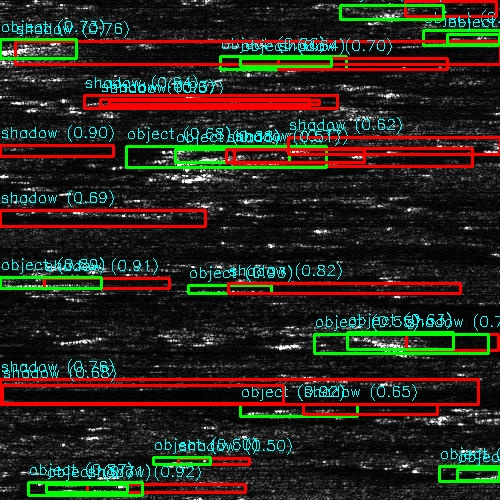rock: (132, 142, 351, 169), (379, 329, 462, 354), (212, 61, 347, 74), (417, 411, 500, 422), (434, 34, 500, 47), (346, 5, 429, 14), (0, 49, 51, 58), (42, 487, 115, 492), (455, 248, 500, 255), (68, 280, 89, 289), (470, 474, 500, 479), (405, 348, 436, 351)
shadow: (242, 142, 500, 169), (0, 213, 233, 232), (280, 61, 444, 74), (421, 329, 500, 354), (0, 162, 103, 173), (388, 5, 473, 14), (79, 487, 230, 492), (25, 49, 101, 58), (79, 280, 154, 289), (421, 348, 500, 351), (480, 411, 500, 422)
